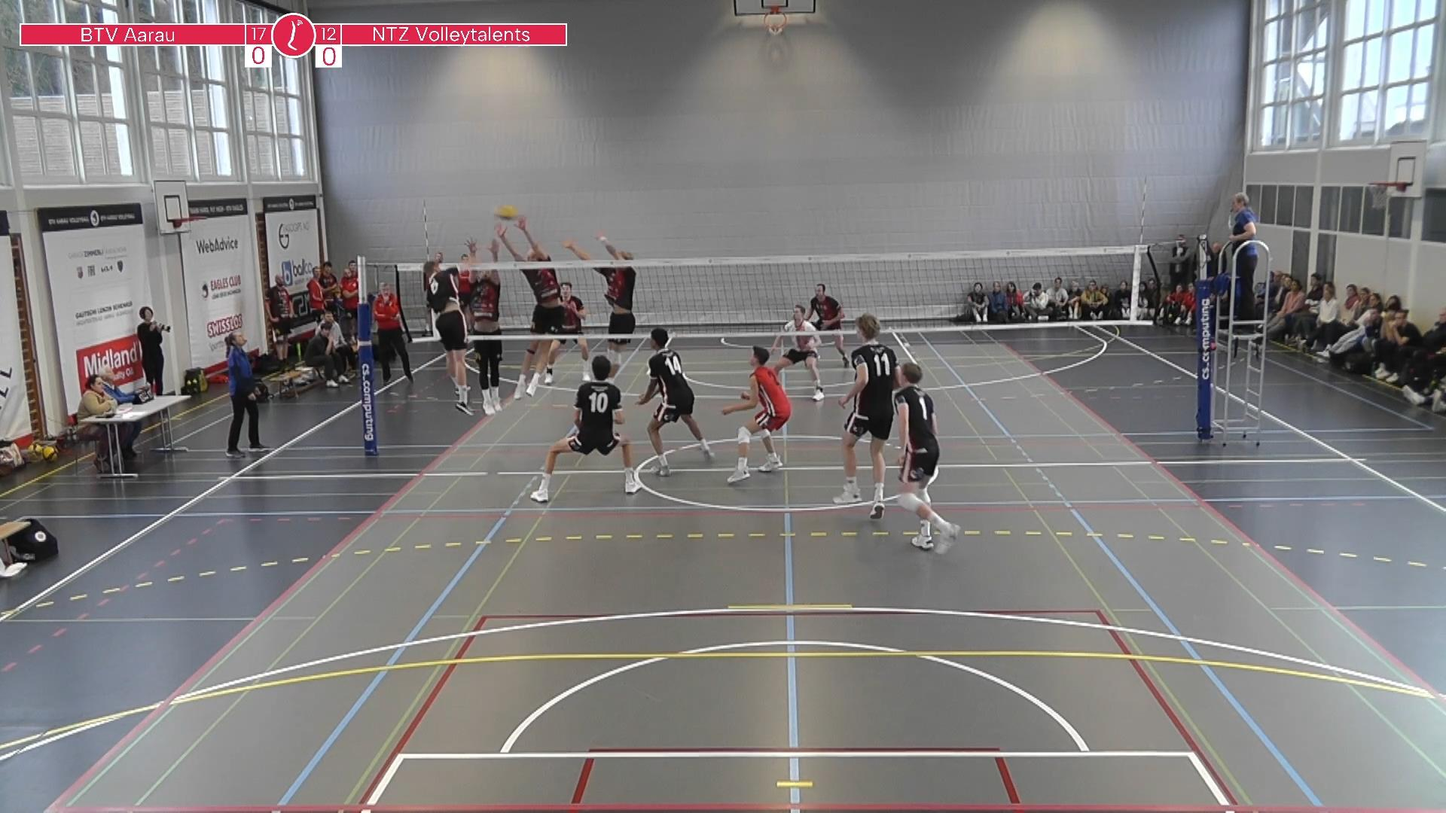attacco: (414, 229, 507, 410)
muro: (490, 215, 560, 407), (565, 230, 641, 389), (451, 228, 503, 426)
